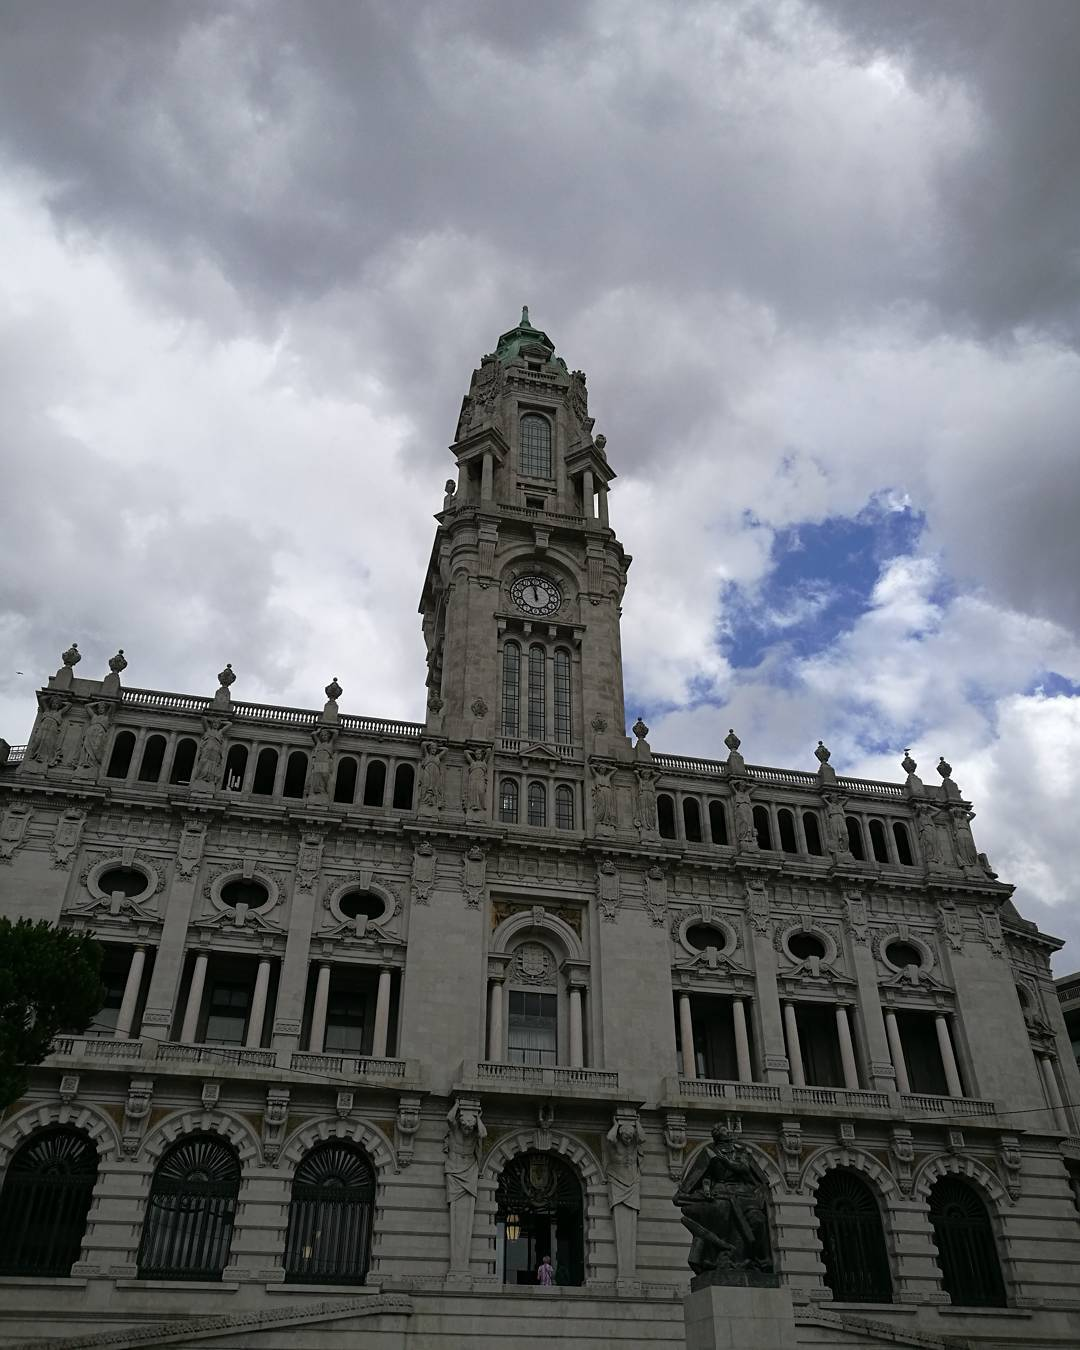camara: (0, 298, 1079, 1349)
